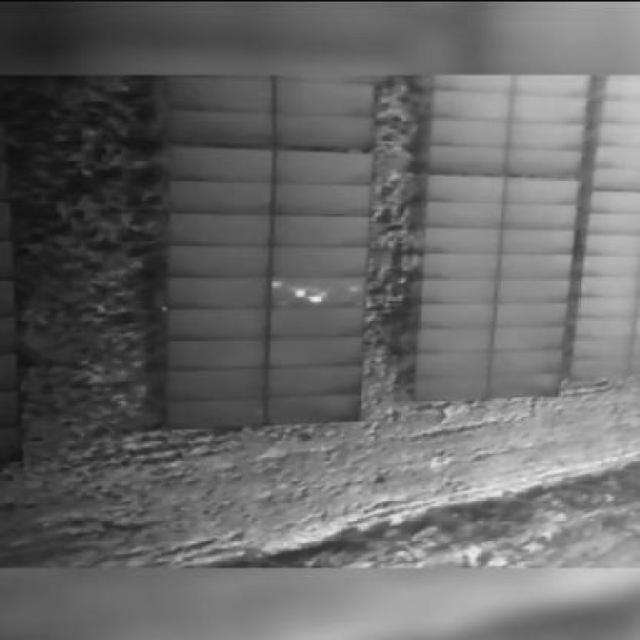hotspot: (272, 278, 291, 287), (311, 294, 326, 304), (292, 287, 308, 295)
